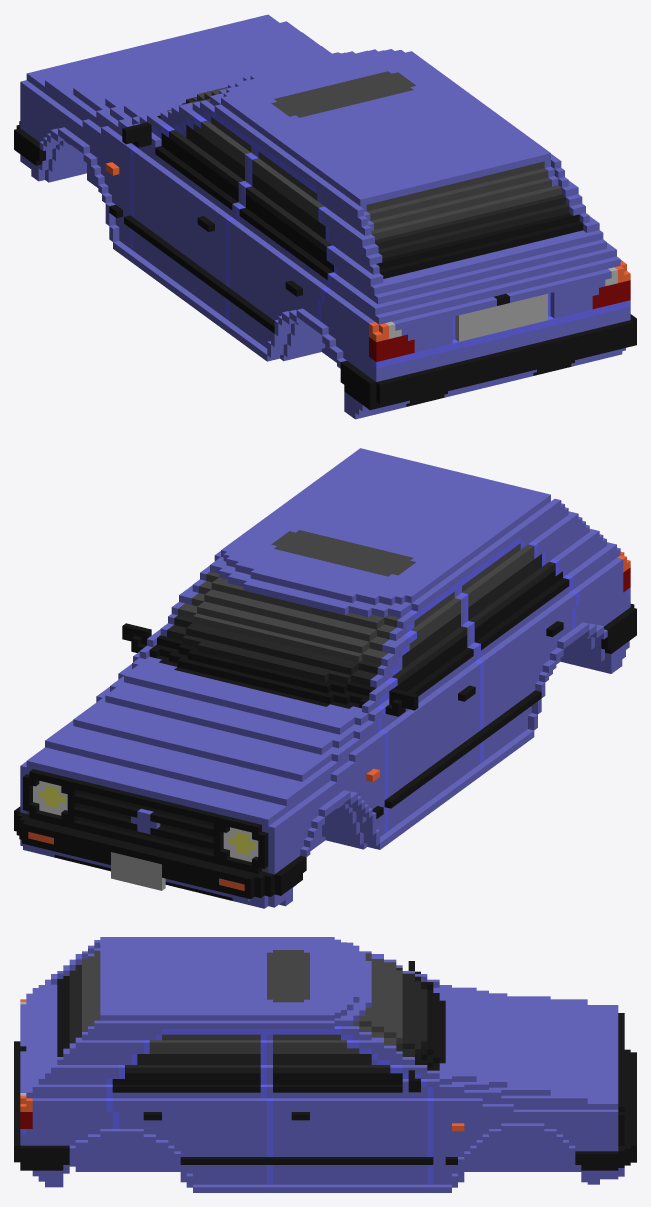
The picture shows the model from 3 angles, top to bottom: view 1: azimuth 30°, elevation 25°; view 2: azimuth 150°, elevation 25°; view 3: azimuth 270°, elevation 25°; orthographic projection. The views are drawn at different scales.
Visible parts, largest first — view 1: VOX; view 2: VOX; view 3: VOX.
Boxes of the visible parts, x1,y1,x2,y2 form: VOX: [14, 14, 636, 419]; VOX: [14, 448, 636, 908]; VOX: [14, 937, 636, 1192].
Size of the model in its own units: 0.046 by 0.029 by 0.101.
